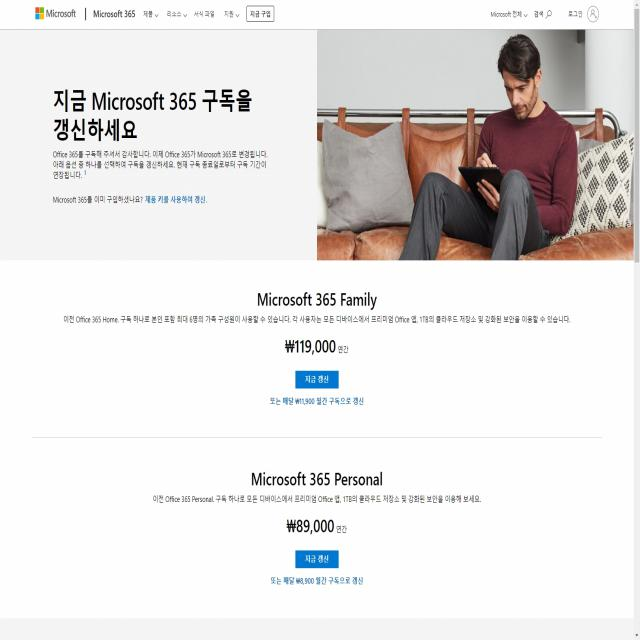menu-bar: (138, 1, 279, 27)
